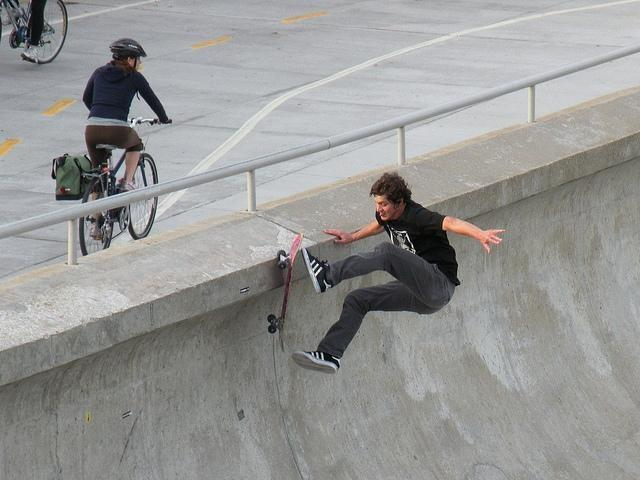bicycle: (80, 119, 160, 252), (0, 0, 69, 65)
